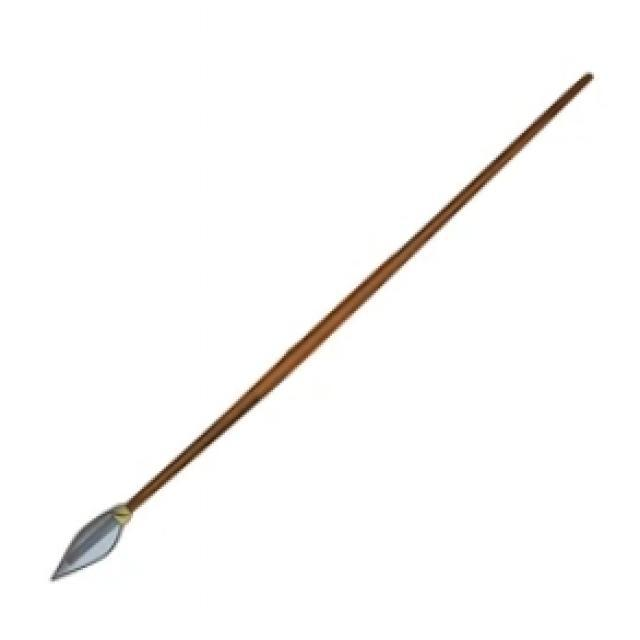spear: (41, 51, 607, 590)
